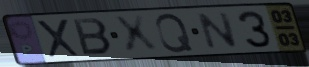3: (235, 8, 274, 49)
B: (70, 17, 115, 57)
N: (196, 10, 240, 51)
Q: (154, 12, 196, 54)
X: (110, 13, 162, 56), (33, 18, 84, 60)
